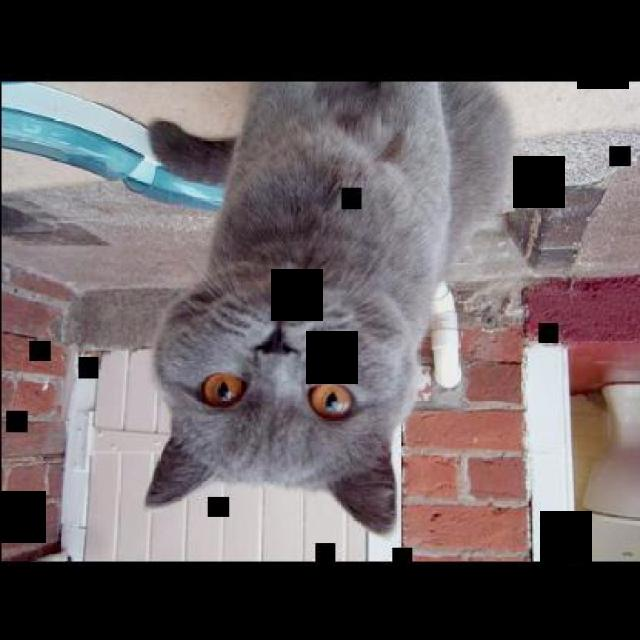unauthorized: (143, 78, 519, 534)
